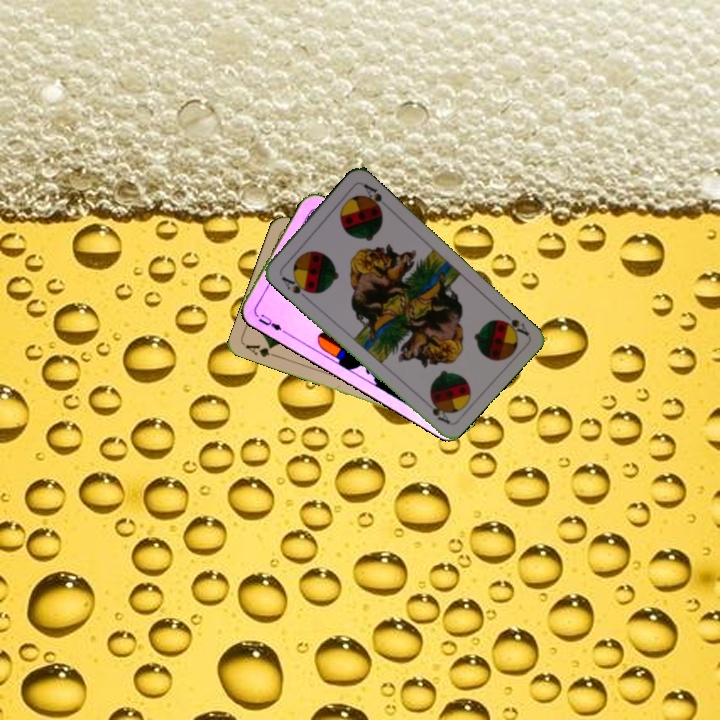EU: (254, 310, 288, 335)
GA: (241, 340, 281, 361)
SA: (494, 307, 531, 340), (277, 272, 313, 301)
